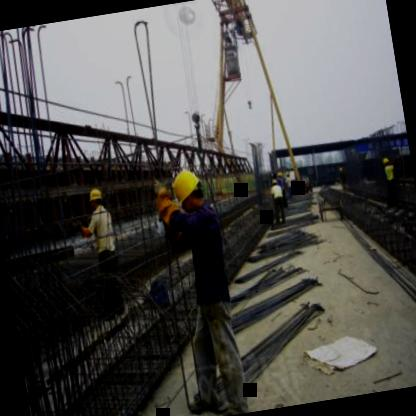helmet: (168, 165, 207, 214), (85, 184, 106, 211), (381, 154, 393, 168)
